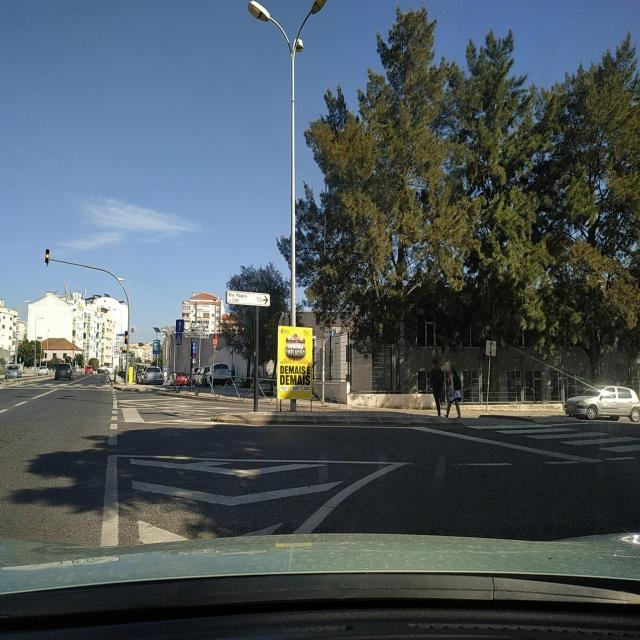car: (564, 384, 640, 422), (208, 362, 234, 386), (142, 365, 164, 386), (54, 362, 73, 381), (169, 371, 190, 388), (4, 363, 22, 380), (190, 366, 203, 384), (84, 366, 93, 376)
